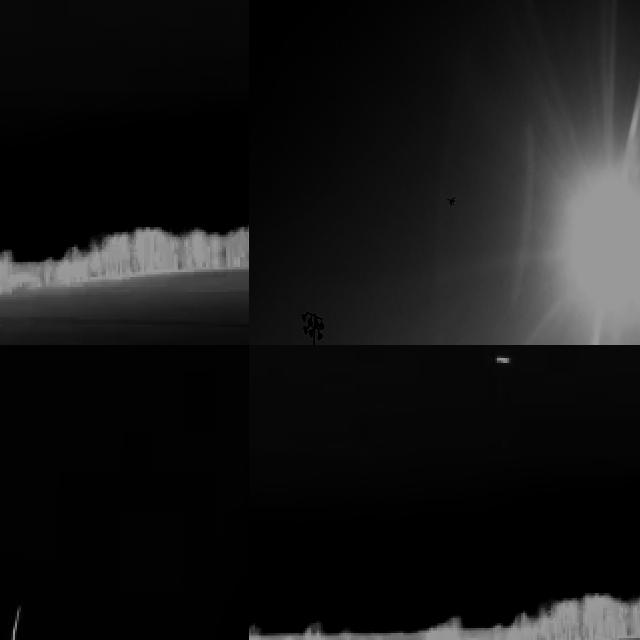1: (487, 348, 519, 380)
drone: (445, 184, 461, 209)
